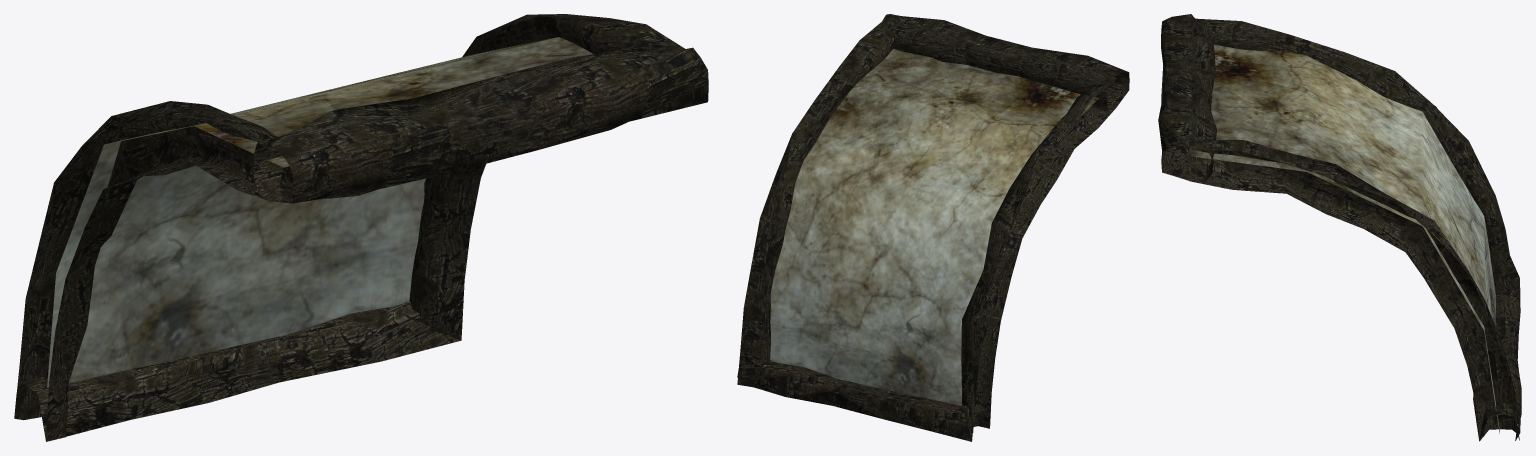
The model's file is concave_short.dae.
The picture shows the model from 3 angles, left to right: view 1: azimuth 30°, elevation 25°; view 2: azimuth 150°, elevation 25°; view 3: azimuth 270°, elevation 25°; orthographic projection. The views are drawn at different scales.
Parts seen in each view (by area): view 1: polySurface86, pPlane1; view 2: pPlane1, polySurface86; view 3: polySurface86, pPlane1.
Boxes of the visible parts, box(x1,y1,x2,y2) form: polySurface86: box(14, 14, 708, 441); pPlane1: box(47, 37, 593, 387); pPlane1: box(770, 49, 1098, 432); polySurface86: box(737, 14, 1129, 441); polySurface86: box(1158, 14, 1521, 441); pPlane1: box(1191, 44, 1499, 433).
Size of the model in its own units: 2 by 2.16 by 2.36.
